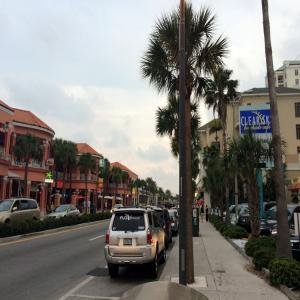Vehicle-registration-plate: (124, 239, 133, 247)
